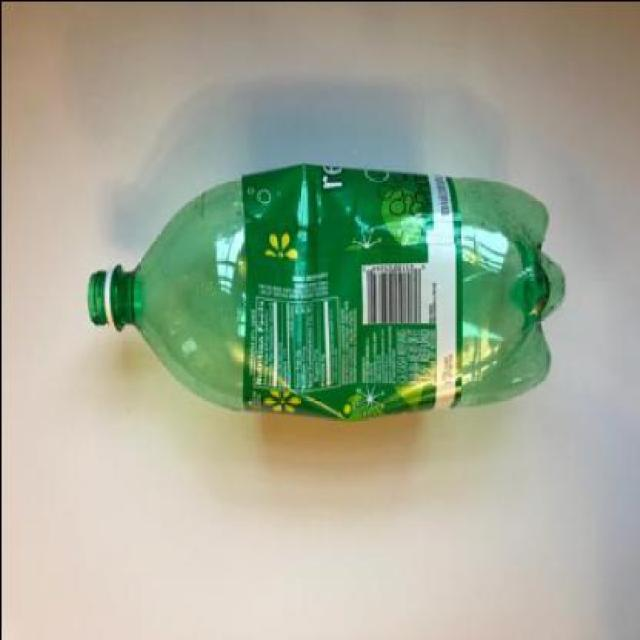PLASTIC: (84, 160, 562, 420), (238, 162, 458, 415)
